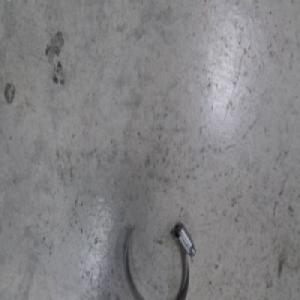AdjustableClamp: (123, 221, 197, 300)
